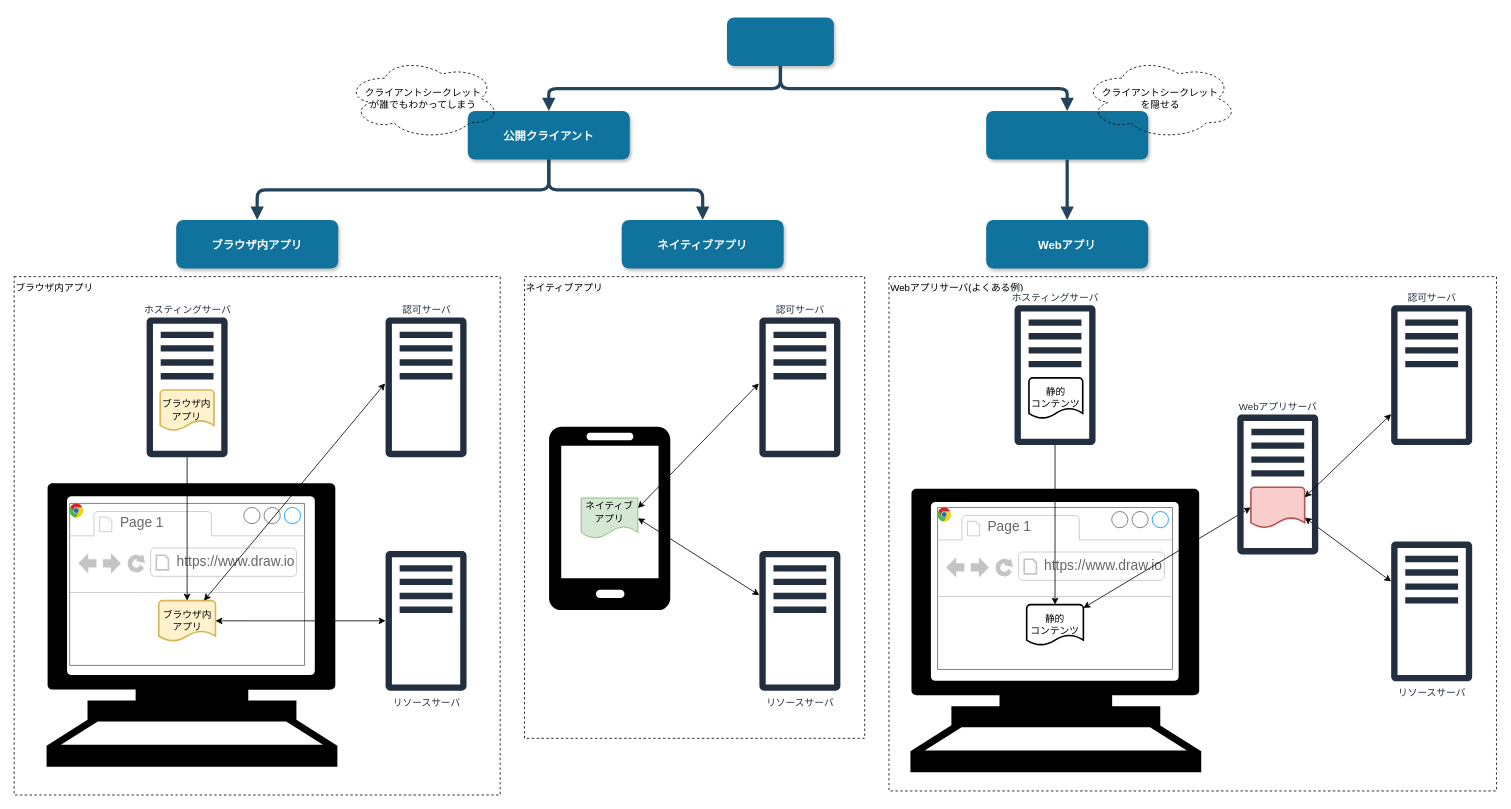
Some shapes in this 1511 by 809 pixel diagram are drawn without their labels. The shapes that lost their labels are listed below. From the top down, each one's centre as x and y in pixels, then its label:
pixel 780 42: クライアント
pixel 1068 136: 機密クライアント
pixel 1277 507: Web アプリ
